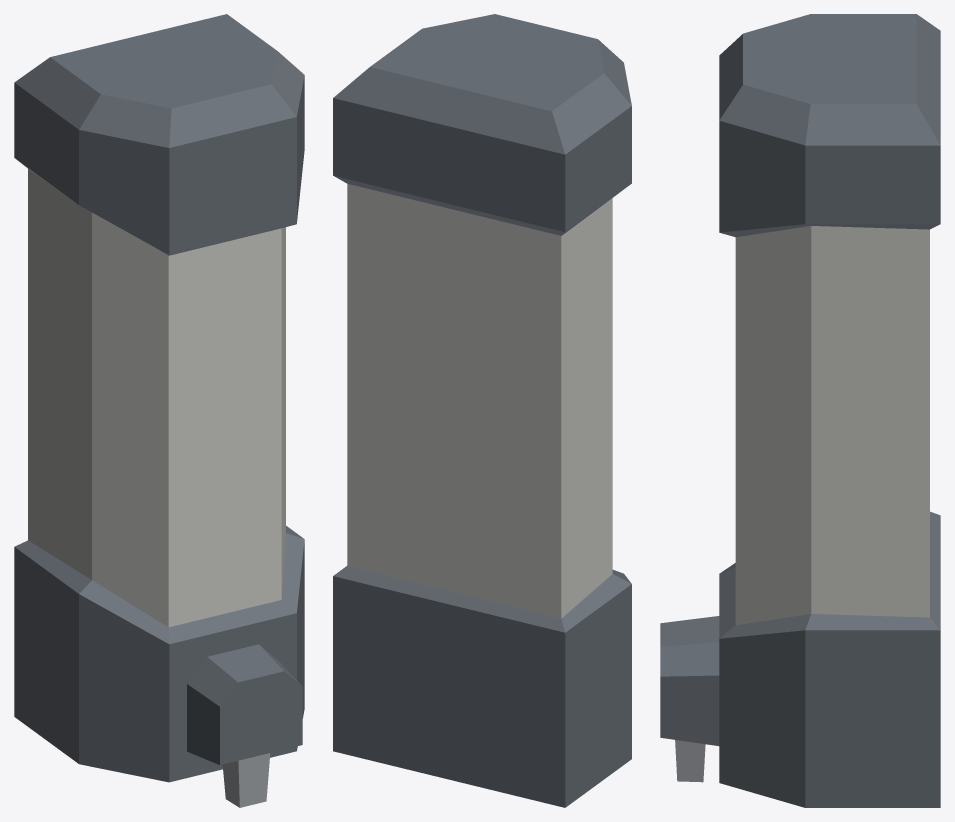
The model's file is Soap_Dispenser.FBX.
The picture shows the model from 3 angles, left to right: view 1: azimuth 30°, elevation 25°; view 2: azimuth 150°, elevation 25°; view 3: azimuth 270°, elevation 25°; orthographic projection. The views are drawn at different scales.
Visible parts, largest first — view 1: Soap_Dispenser; view 2: Soap_Dispenser; view 3: Soap_Dispenser.
Part boxes in pixels (box(x1,y1,x2,y2)): Soap_Dispenser: box(14, 14, 304, 807); Soap_Dispenser: box(333, 14, 631, 807); Soap_Dispenser: box(660, 14, 940, 807).
Bounding box in the file's own units: 15.11 × 43.87 × 15.56.
